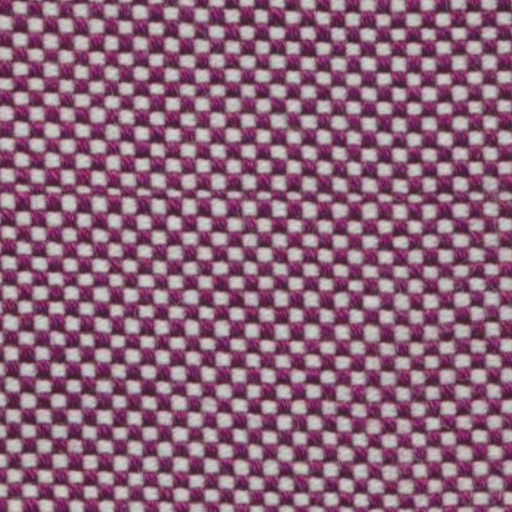TuoSha: (9, 148, 493, 230)
